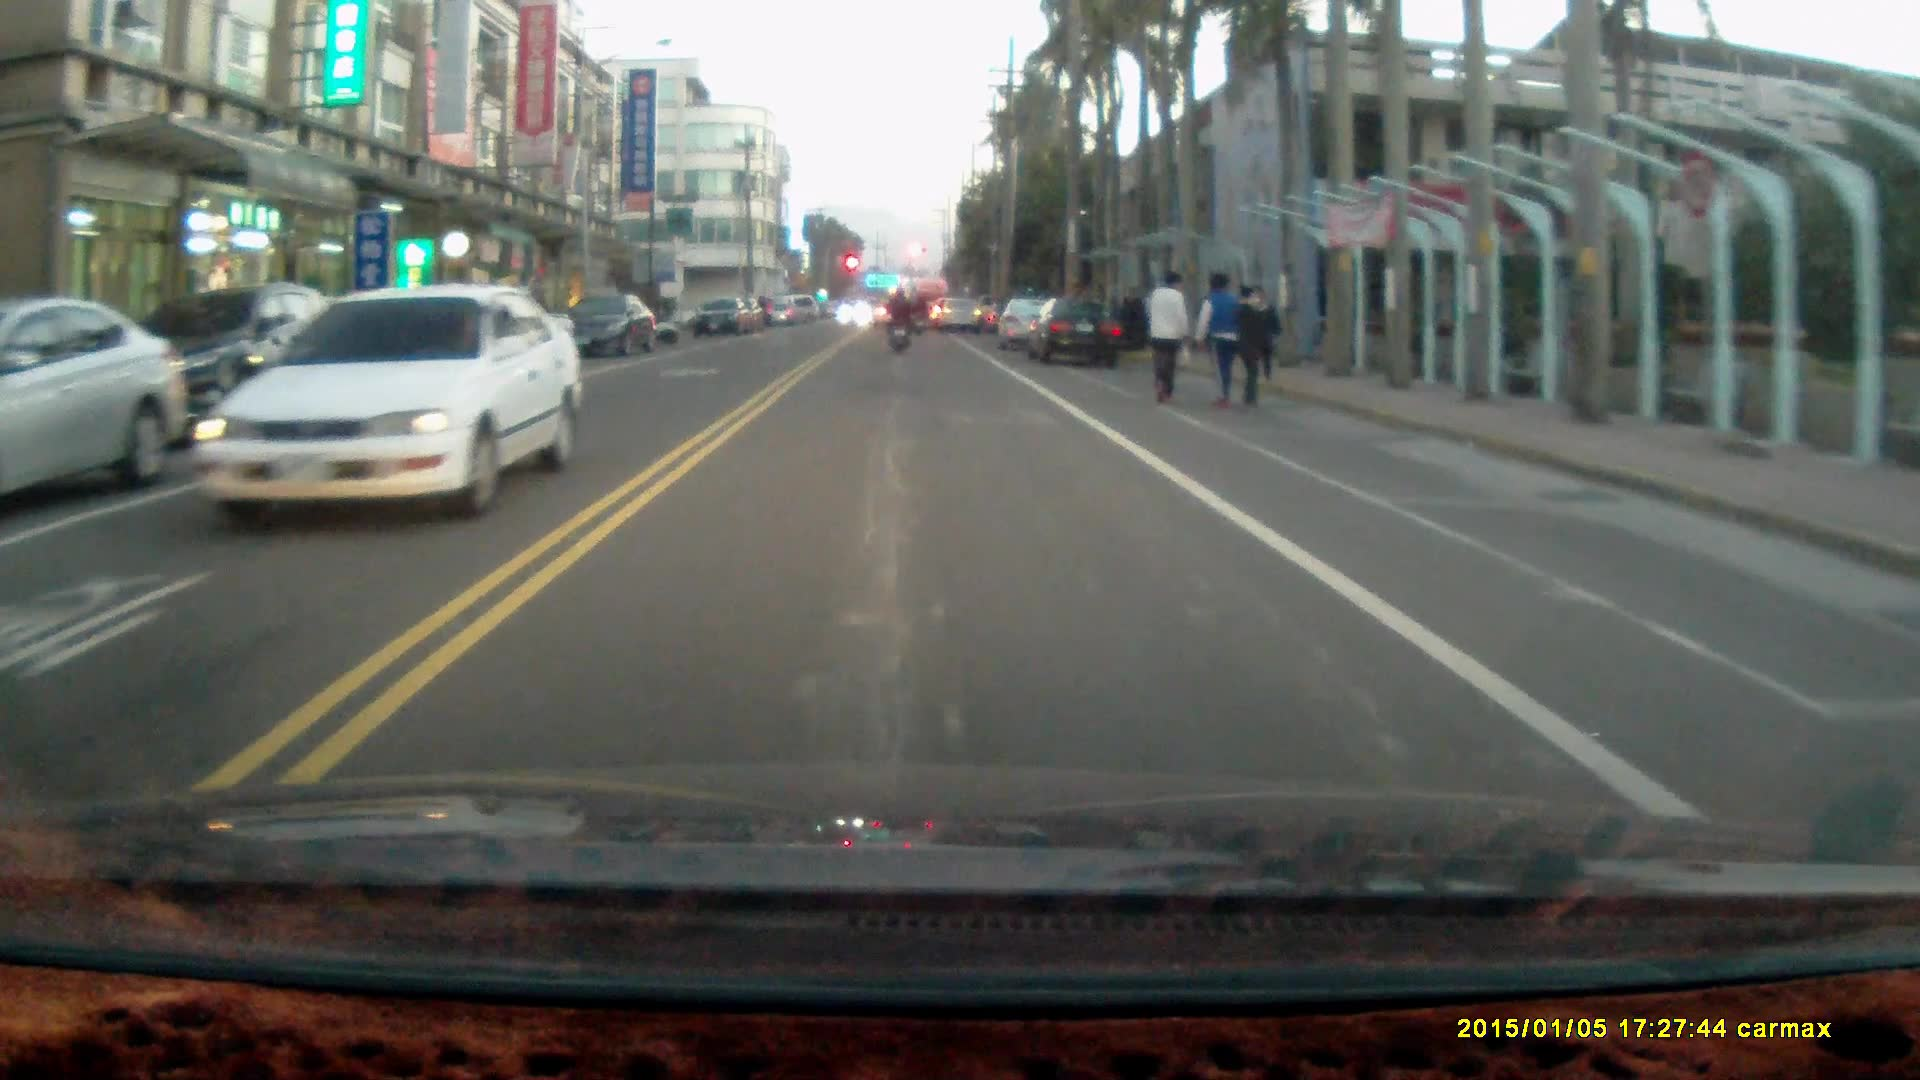pedestrian: (1194, 268, 1242, 408), (1144, 264, 1190, 407), (1231, 280, 1272, 411)
rider: (883, 283, 914, 355)
vehicle: (190, 286, 583, 519), (2, 294, 178, 505), (93, 278, 328, 433), (1034, 297, 1126, 369), (559, 290, 653, 359), (997, 296, 1085, 356), (693, 298, 757, 340)
